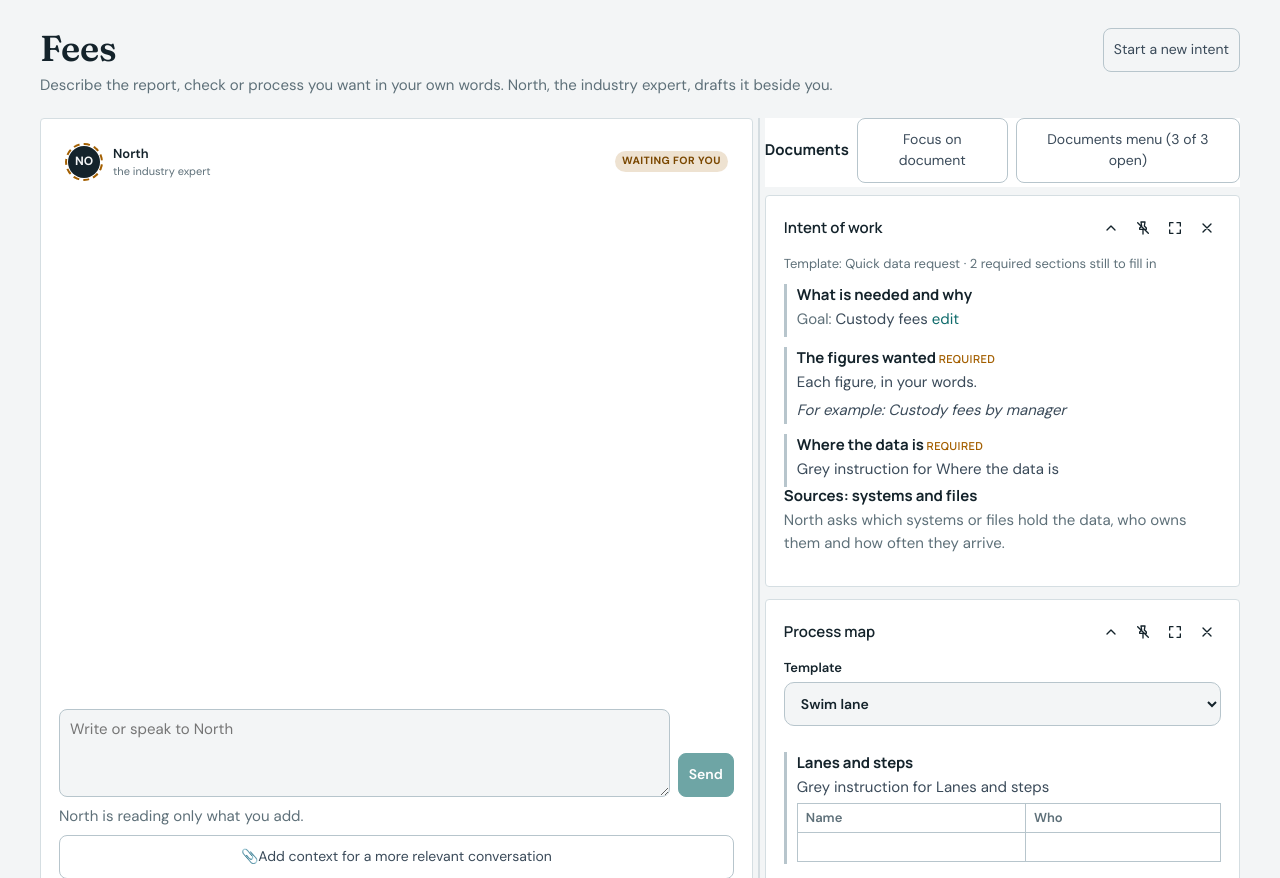
Test: the three documents open laid out: grey sections stay grey, North's fill is highlighted until accepted, and the process map template switches
This screenshot has width=1280, height=878.
Expected: the text "Grey instruction for Where the data is" is shown, [797,459,1059,479]
Expected: the text "Each figure, in your words." is shown, [797,372,977,392]
Select "Step list" in the dropdown named "Template for Process map": (1002, 704) [784,682,1221,726]
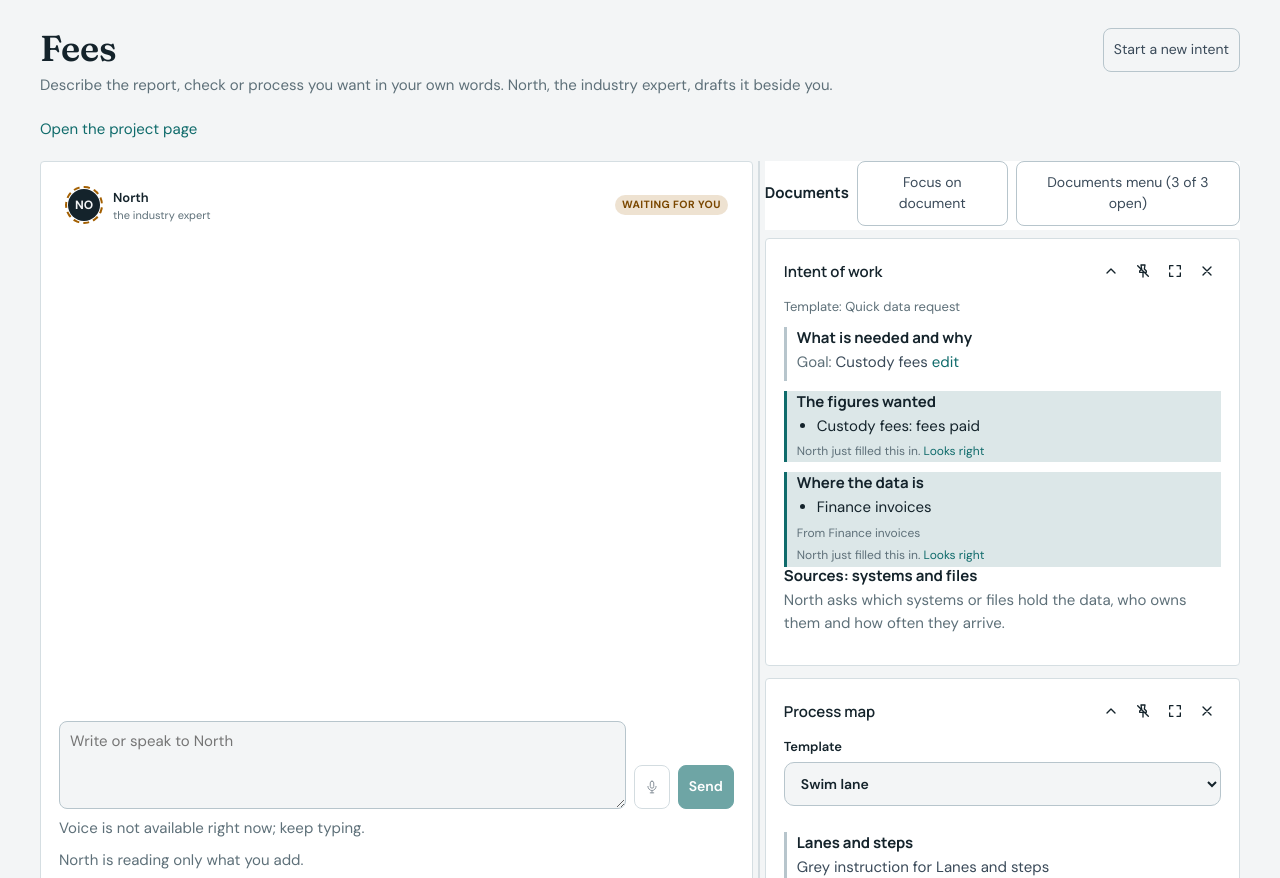
Expected: the list item "Custody fees: fees paid" is shown, [817,416,980,436]
Expected: the text "North just filled this in. Looks right" is shown 2 times, [797,442,984,460]; [797,546,984,565]
Expected: the text "From Finance invoices" is shown, [797,525,920,541]
Click the button with aria-label "Looks right: The figures wanted": (954, 451) [924,442,984,460]
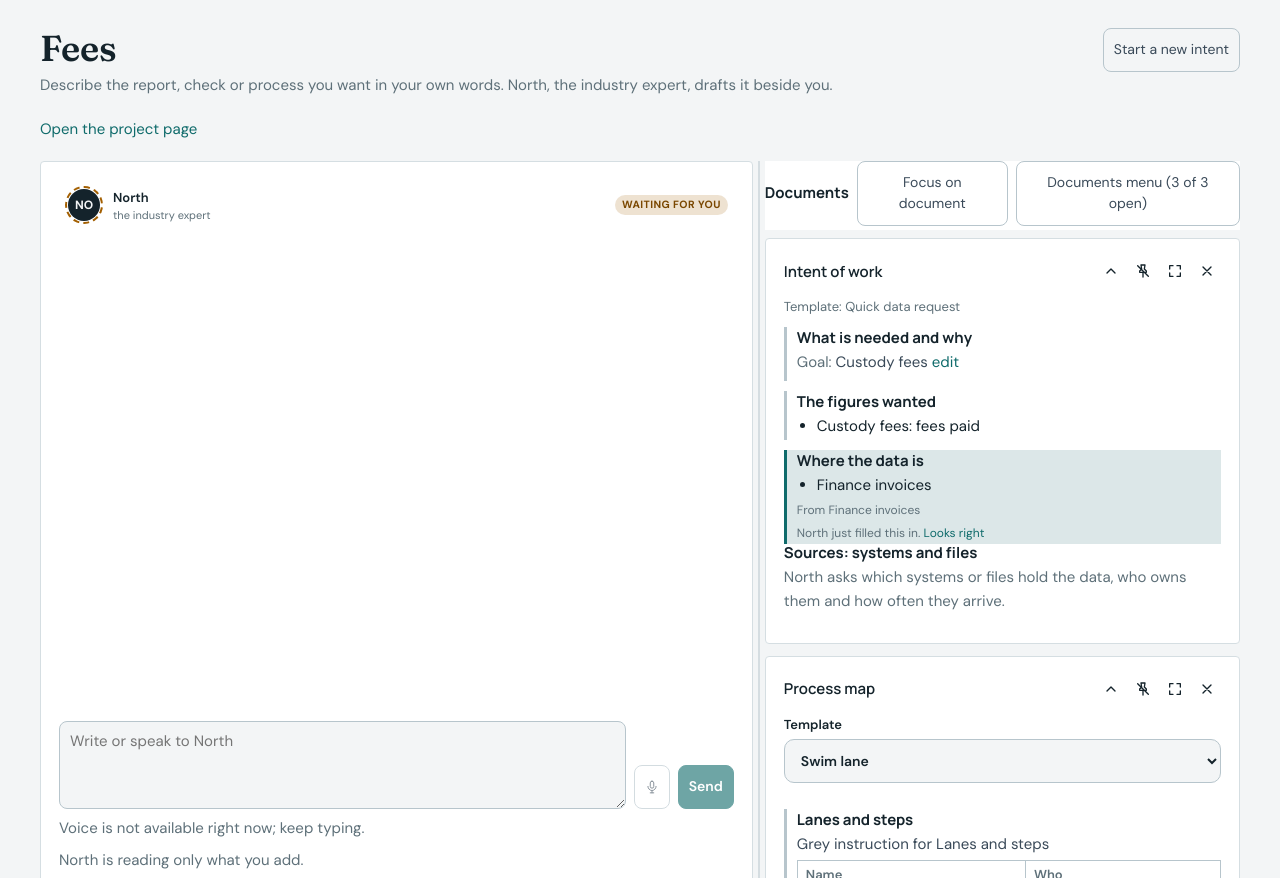
Expected: the text "North just filled this in. Looks right" is shown once, [797,524,984,542]
